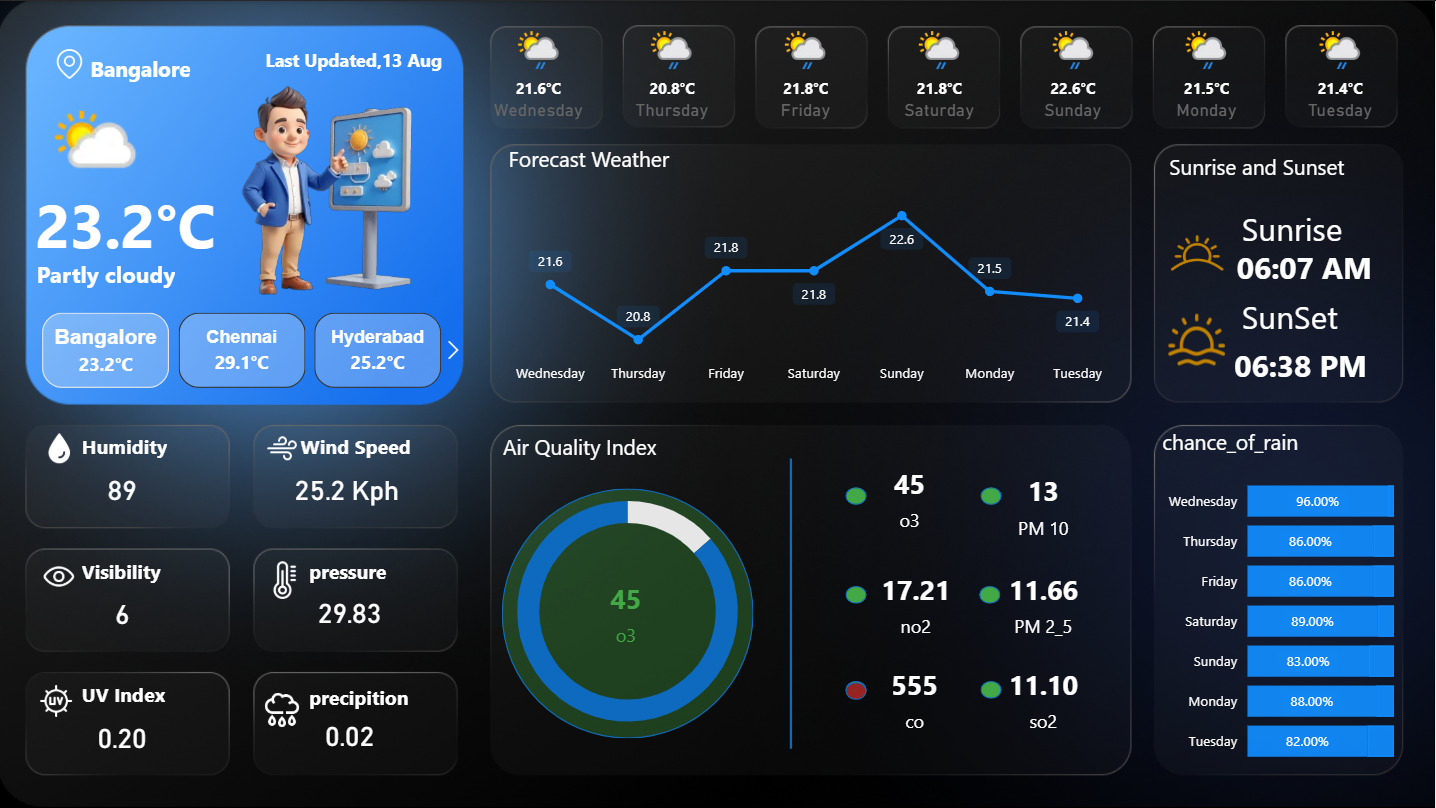

The page's visual inventory and layout, read from the dashboard file:
{"tool":"powerbi","page":{"name":"Page 1","canvas":[1280,720],"ordinal":0},"visuals":[{"type":"shape","box":[32.9,158.4,246.2,78.4],"z":0,"group":"g1"},{"type":"shape","box":[448.5,434.4,224.3,222.7],"z":0},{"type":"shape","box":[33.5,226.1,167.4,33.2],"z":1000,"group":"g1"},{"type":"donutChart","fields":{"Y":["Sum(current.current.air_quality.o3)","_measures.Left_value_PM10"]},"box":[432.8,396.8,255.6,294.8],"z":1000},{"type":"advancedSlicerVisual","fields":{"Values":["Location.location.name"]},"box":[14.4,272.7,406.9,77.9],"z":2000},{"type":"shape","title":"Sunrise","box":[1108,183.2,134.2,34.6],"z":3000},{"type":"shape","box":[82.2,46.2,139.9,30.3],"z":4000},{"type":"shape","box":[238.1,36.1,160.1,33.2],"z":5000},{"type":"image","box":[46.2,36.1,36.1,40.4],"z":6000},{"type":"group","id":"g1","title":"Group 1","box":[32.9,158.4,246.2,100.4],"z":7000},{"type":"cardVisual","fields":{"Data":["Min(current.current.condition.icon)"]},"box":[27.4,69.3,111.1,114],"z":8000},{"type":"image","box":[33.2,379.4,41.8,37.5],"z":9000},{"type":"shape","box":[75,379.4,90.9,33.2],"z":10000},{"type":"shape","box":[269.8,379.4,125.5,33.2],"z":11000},{"type":"shape","box":[75,490.5,90.9,33.2],"z":12000},{"type":"shape","box":[75,600.2,90.9,33.2],"z":13000},{"type":"shape","box":[277,600.2,109.6,40.4],"z":14000},{"type":"shape","box":[277,490.5,90.9,33.2],"z":15000},{"type":"image","box":[229.4,379.4,47.6,37.5],"z":16000},{"type":"image","box":[27.4,603.1,47.6,40.4],"z":17000},{"type":"image","box":[229.4,607.4,47.6,47.6],"z":18000},{"type":"image","box":[33.2,490.5,41.8,43.3],"z":19000},{"type":"image","box":[233.7,490.5,43.3,49.1],"z":20000},{"type":"card","fields":{"Values":["Sum(current.current.humidity)"]},"box":[75,412.6,72.1,44.7],"z":21000},{"type":"card","fields":{"Values":["Sum(current.current.pressure_in)"]},"box":[277,522.3,72.1,44.7],"z":22000},{"type":"card","fields":{"Values":["_measures.wind_speed"]},"box":[253.9,412.6,114,44.7],"z":23000},{"type":"card","fields":{"Values":["Sum(current.current.vis_km)"]},"box":[75,528.1,72.1,36.1],"z":24000},{"type":"card","fields":{"Values":["Sum(current.current.precip_in)"]},"box":[277,631.9,72.1,44.7],"z":25000},{"type":"card","fields":{"Values":["Sum(current.current.uv)"]},"box":[75,633.4,72.1,44.7],"z":26000},{"type":"lineChart","title":"Forecast Weather","fields":{"Y":["Sum(forcast_day.forecast.forecastday.day.avgtemp_c)"],"Category":["forcast_day.day_name"]},"box":[450.1,128.4,548.2,222.2],"z":27000},{"type":"advancedSlicerVisual","fields":{"Values":["forcast_day.day_name"]},"box":[421.3,14.4,839.7,109.6],"z":28000},{"type":"shape","box":[1043.1,131.3,176,33.2],"z":29000},{"type":"shape","title":"SunSet","box":[1108,261.1,141.4,44.7],"z":30000},{"type":"shape","box":[1100.8,301.5,141.4,44.7],"z":31000},{"type":"shape","box":[1103.7,213.5,134.2,44.7],"z":32000},{"type":"image","box":[1031.6,190.4,72.1,67.8],"z":33000},{"type":"image","box":[1037.3,268.4,60.6,66.4],"z":34000},{"type":"hundredPercentStackedBarChart","title":"chance_of_rain ","fields":{"Y":["Sum(forcast_day.forecast.forecastday.day.daily_chance_of_rain)","current.left_value_rain"],"Category":["forcast_day.day_name"]},"box":[1031.9,379.5,216.4,313.7],"z":35000},{"type":"shape","box":[450.1,381.1,166.2,32.9],"z":36000},{"type":"card","fields":{"Values":["Sum(current.current.air_quality.pm10)"]},"box":[873.5,406.2,114.5,84.7],"z":37000},{"type":"card","fields":{"Values":["Sum(current.current.air_quality.pm2_5)"]},"box":[873.5,494,114.5,84.7],"z":38000},{"type":"card","fields":{"Values":["Sum(current.current.air_quality.no2)"]},"box":[760.6,494,114.5,84.7],"z":39000},{"type":"card","fields":{"Values":["Sum(current.current.air_quality.o3)"]},"box":[754.3,399.9,114.5,84.7],"z":40000},{"type":"card","fields":{"Values":["Sum(current.current.air_quality.so2)"]},"box":[873.5,578.7,114.5,84.7],"z":41000},{"type":"card","fields":{"Values":["Sum(current.current.air_quality.co)"]},"box":[759,578.7,114.5,84.7],"z":42000},{"type":"shape","box":[754.3,432.8,18.8,15.7],"z":43000},{"type":"shape","box":[754.3,605.4,18.8,15.7],"z":44000},{"type":"shape","box":[875.1,605.4,18.8,15.7],"z":45000},{"type":"shape","box":[873.5,520.7,18.8,15.7],"z":46000},{"type":"shape","box":[875.1,432.8,18.8,15.7],"z":47000},{"type":"shape","box":[754.3,606.9,18.8,15.7],"z":48000},{"type":"shape","box":[754.3,520.7,18.8,15.7],"z":49000},{"type":"shape","box":[699.4,407.7,14.1,258.8],"z":50000},{"type":"card","fields":{"Values":["Sum(current.current.air_quality.o3)"]},"box":[501.8,501.8,114.5,84.7],"z":51000},{"type":"image","box":[177.2,48.6,221.1,235.2],"z":52000}]}

Visuals, with their boxes in screenshot pixels (x1, y1, x2, y2), scaled from the page's 1280x720 canvas onto the 1436x808 screenshot:
shape: 37 178 313 266
shape: 503 487 755 737
shape: 38 254 225 291
donutChart - Sum(current.current.air_quality.o3) x _measures.Left_value_PM10: 486 445 772 776
advancedSlicerVisual - Location.location.name: 16 306 473 393
"Sunrise" shape: 1243 206 1394 244
shape: 92 52 249 86
shape: 267 41 447 78
image: 52 41 92 86
"Group 1" group: 37 178 313 290
cardVisual - Min(current.current.condition.icon): 31 78 155 206
image: 37 426 84 468
shape: 84 426 186 463
shape: 303 426 443 463
shape: 84 550 186 588
shape: 84 674 186 711
shape: 311 674 434 719
shape: 311 550 413 588
image: 257 426 311 468
image: 31 677 84 722
image: 257 682 311 735
image: 37 550 84 599
image: 262 550 311 606
card - Sum(current.current.humidity): 84 463 165 513
card - Sum(current.current.pressure_in): 311 586 392 636
card - _measures.wind_speed: 285 463 413 513
card - Sum(current.current.vis_km): 84 593 165 633
card - Sum(current.current.precip_in): 311 709 392 759
card - Sum(current.current.uv): 84 711 165 761
"Forecast Weather" lineChart: 505 144 1120 393
advancedSlicerVisual - forcast_day.day_name: 473 16 1415 139
shape: 1170 147 1368 185
"SunSet" shape: 1243 293 1402 343
shape: 1235 338 1394 389
shape: 1238 240 1389 290
image: 1157 214 1238 290
image: 1164 301 1232 376
"chance_of_rain " hundredPercentStackedBarChart: 1158 426 1400 778
shape: 505 428 691 465
card - Sum(current.current.air_quality.pm10): 980 456 1108 551
card - Sum(current.current.air_quality.pm2_5): 980 554 1108 649
card - Sum(current.current.air_quality.no2): 853 554 982 649
card - Sum(current.current.air_quality.o3): 846 449 975 544
card - Sum(current.current.air_quality.so2): 980 649 1108 744
card - Sum(current.current.air_quality.co): 852 649 980 744
shape: 846 486 867 503
shape: 846 679 867 697
shape: 982 679 1003 697
shape: 980 584 1001 602
shape: 982 486 1003 503
shape: 846 681 867 699
shape: 846 584 867 602
shape: 785 458 800 748
card - Sum(current.current.air_quality.o3): 563 563 691 658
image: 199 55 447 318
